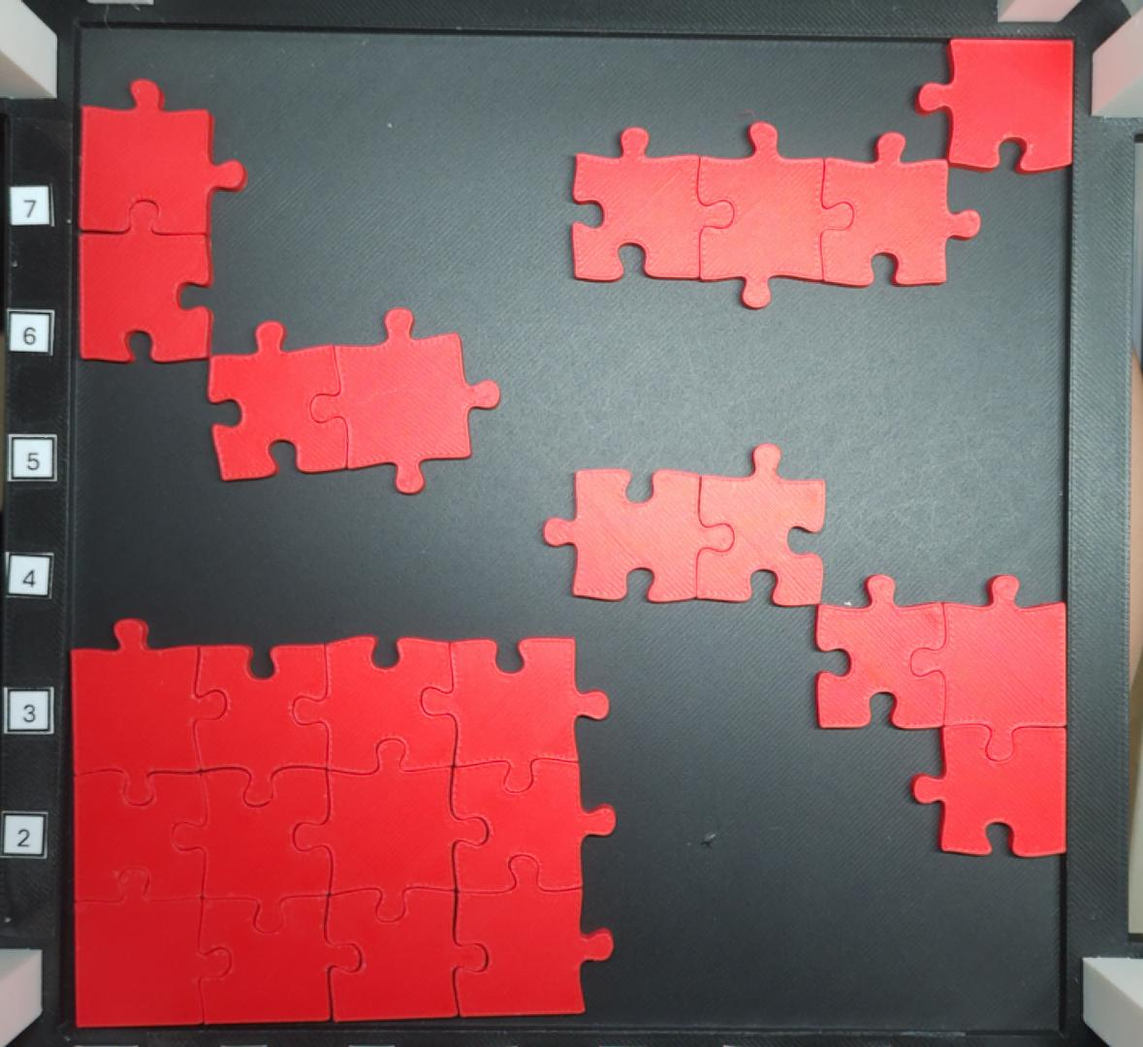p_1: (917, 39, 1073, 174)
p_2: (206, 306, 501, 495), (77, 79, 246, 365), (544, 442, 823, 606)
p_3: (570, 122, 981, 310), (816, 573, 1069, 858)
p_m: (70, 619, 615, 1027)
